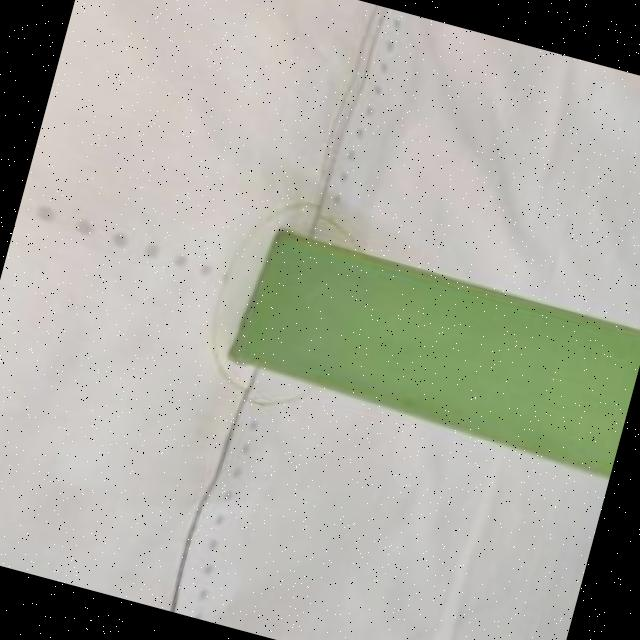greenbox: (225, 222, 640, 479)
